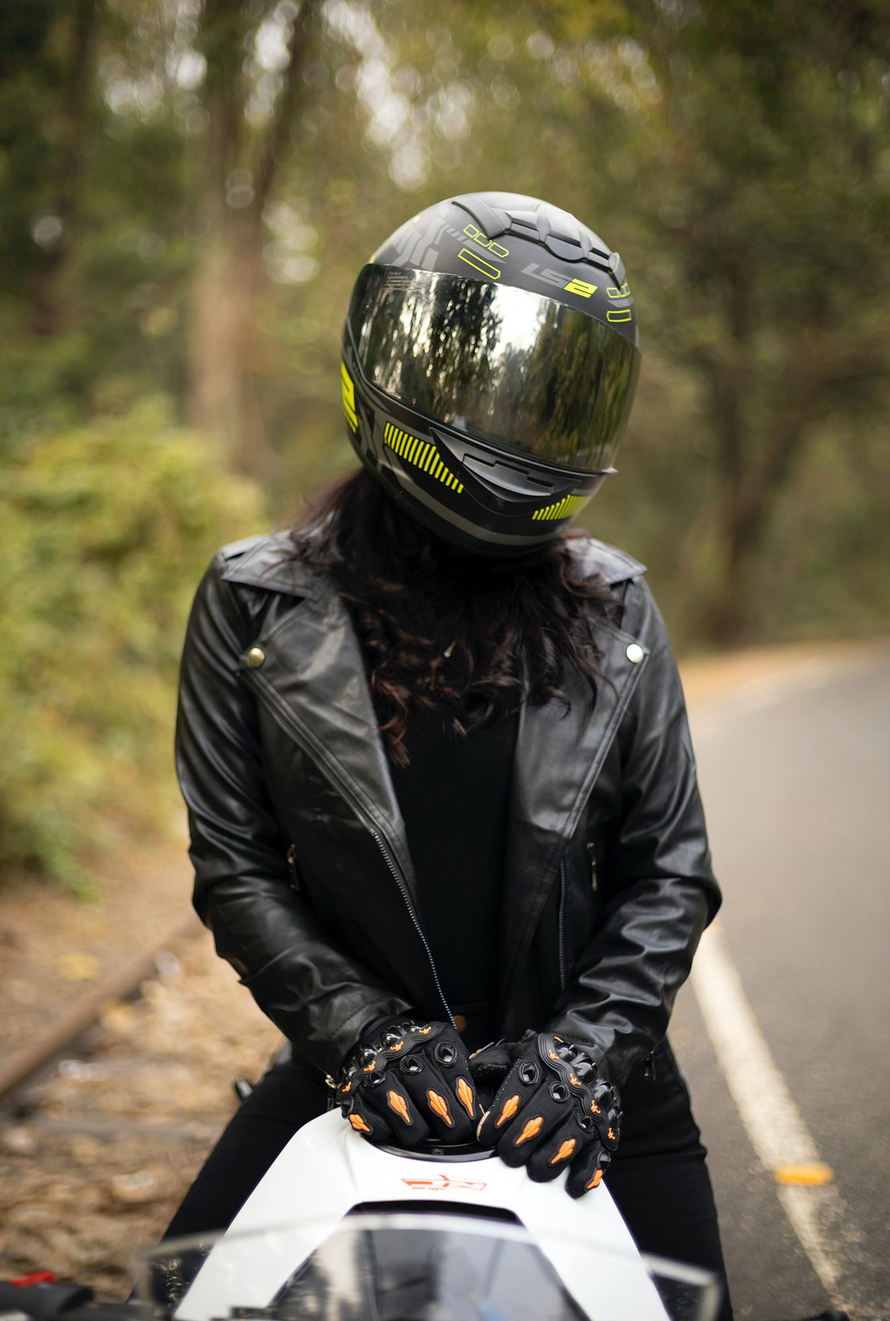helmet: (339, 189, 645, 561)
